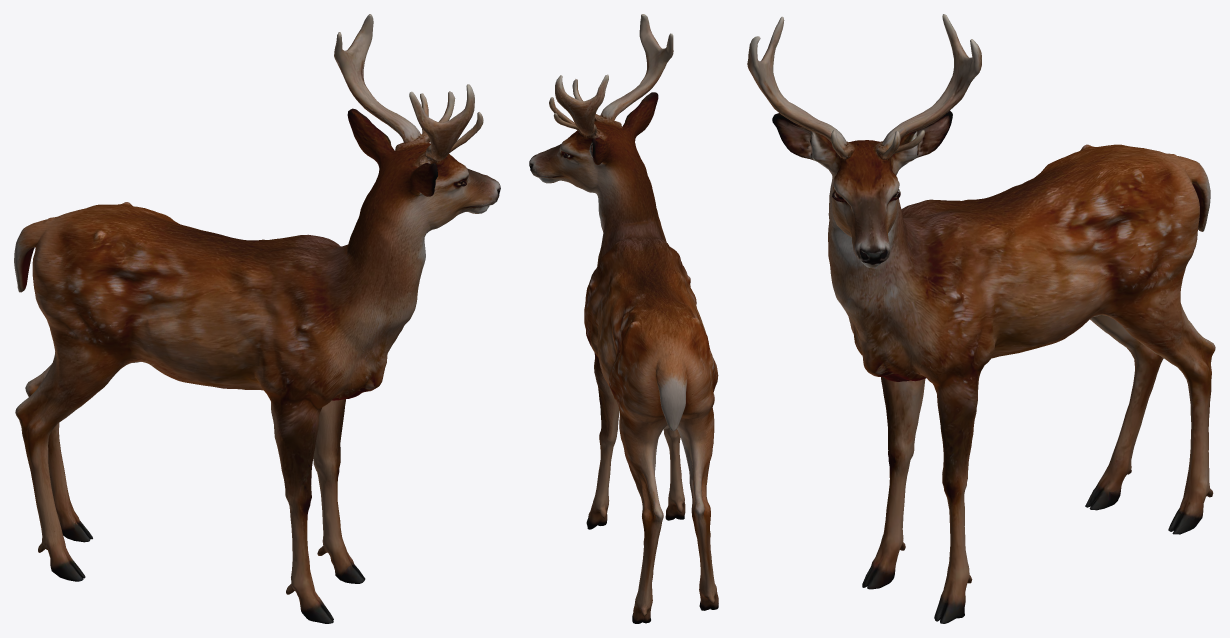
Rendered from deer-standing.glb.
3 renders of one model, left to right at view 1: azimuth 30°, elevation 25°; view 2: azimuth 150°, elevation 25°; view 3: azimuth 270°, elevation 25°, orthographic. The views are drawn at different scales.
Visible parts, largest first — view 1: tripo_node_1f027d7b-5684-4063-9b18-f4cb183cf18e; view 2: tripo_node_1f027d7b-5684-4063-9b18-f4cb183cf18e; view 3: tripo_node_1f027d7b-5684-4063-9b18-f4cb183cf18e.
Boxes of the visible parts, x1=… form: tripo_node_1f027d7b-5684-4063-9b18-f4cb183cf18e: x1=14, y1=14, x2=500, y2=623; tripo_node_1f027d7b-5684-4063-9b18-f4cb183cf18e: x1=529, y1=14, x2=718, y2=623; tripo_node_1f027d7b-5684-4063-9b18-f4cb183cf18e: x1=747, y1=14, x2=1215, y2=623.
Size of the model in its own units: 0.7873 by 1.2 by 0.8524.
1 material, 1 textured.
